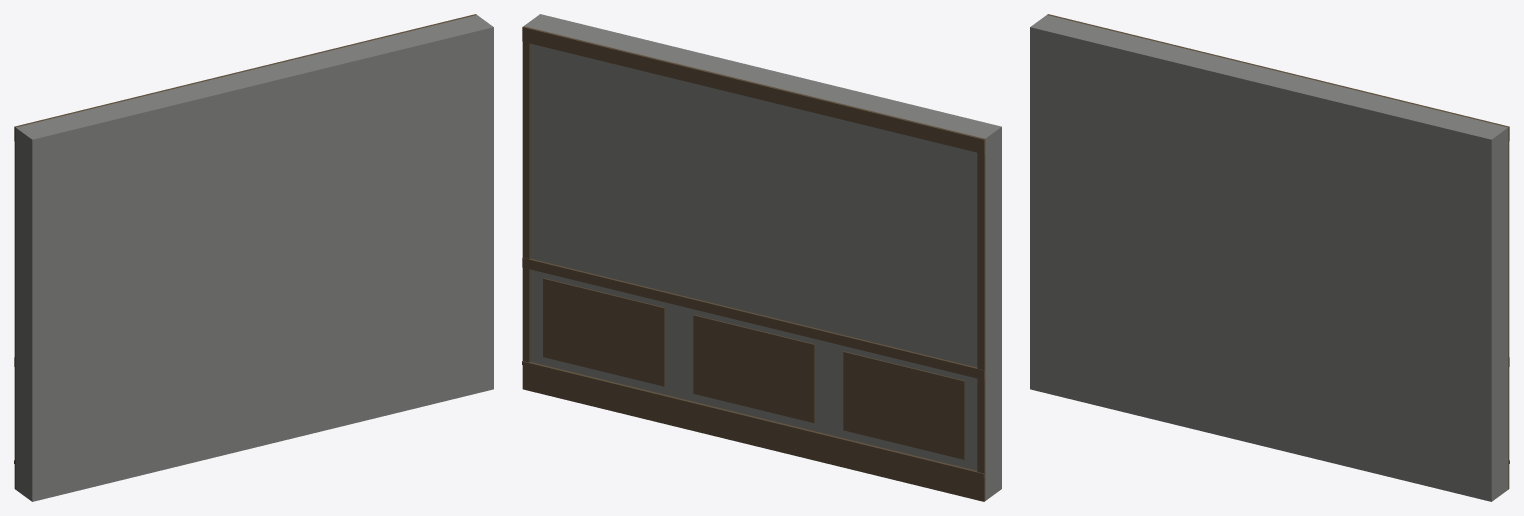
File: wall_module.glb
3 renders of one model, left to right at view 1: azimuth 30°, elevation 25°; view 2: azimuth 150°, elevation 25°; view 3: azimuth 330°, elevation 25°, orthographic.
Parts seen in each view (by area): view 1: Wall_Module; view 2: Wall_Module; view 3: Wall_Module.
Boxes of the visible parts, x1,y1,x2,y2 form: Wall_Module: [14, 14, 493, 501]; Wall_Module: [522, 14, 1001, 501]; Wall_Module: [1030, 14, 1509, 501].
Size of the model in its own units: 4 by 3 by 0.274.
